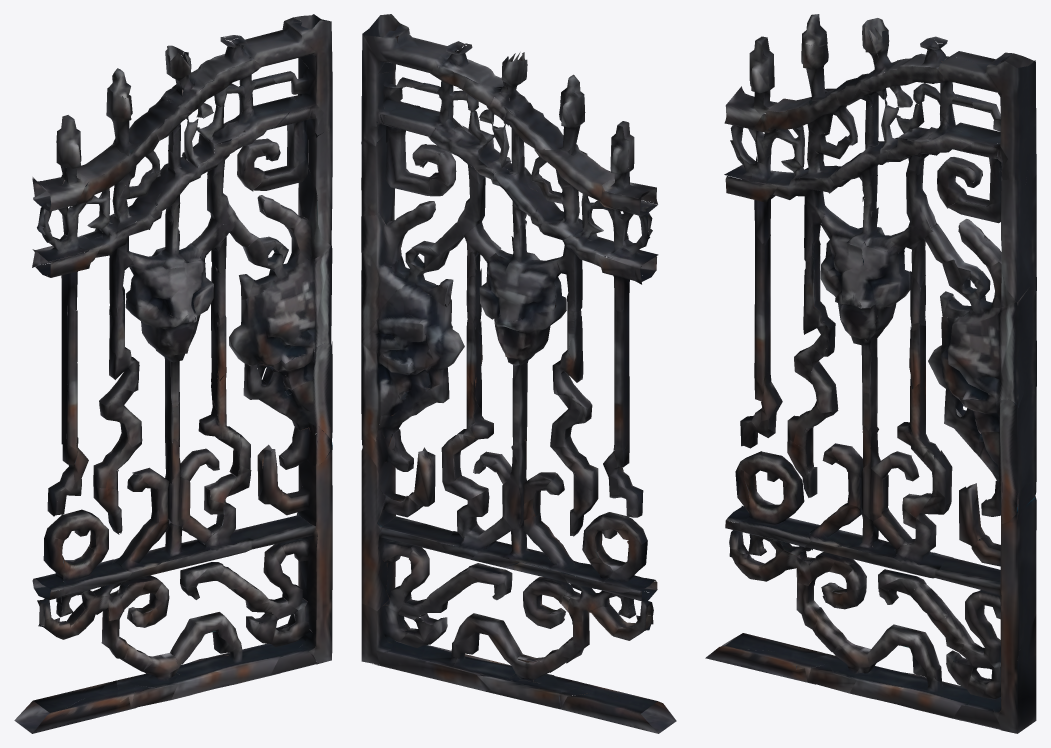
File: gate_door_left.obj
3 renders of one model, left to right at view 1: azimuth 30°, elevation 25°; view 2: azimuth 150°, elevation 25°; view 3: azimuth 330°, elevation 25°, orthographic. The views are drawn at different scales.
Visible parts, largest first — view 1: gate_door_left; view 2: gate_door_left; view 3: gate_door_left.
Part boxes in pixels (box(x1,y1,x2,y2)): gate_door_left: box(14, 14, 332, 733); gate_door_left: box(361, 14, 676, 733); gate_door_left: box(705, 14, 1036, 733).
Bounding box in the file's own units: 0.2919 × 0.5973 × 0.0537.
Materials: 1 (1 with a texture image).
